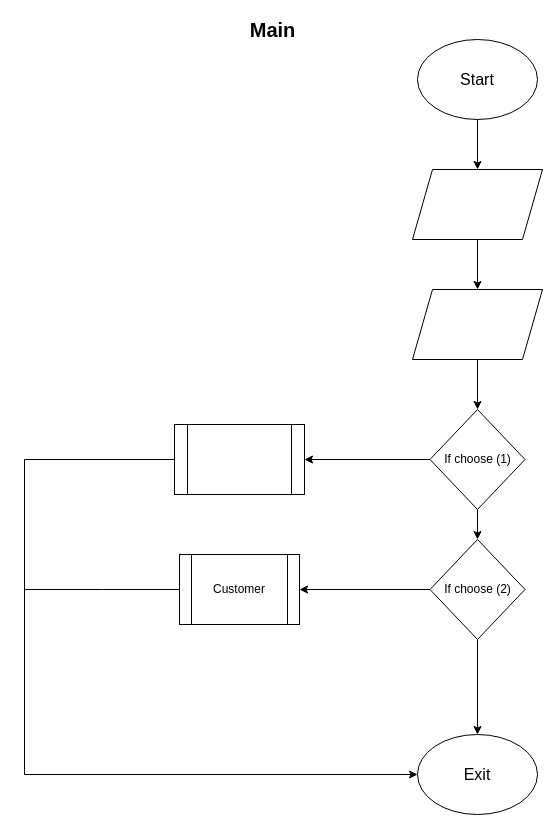
The diagram is 560 pixels wide and 832 high, and some of its shapes have lost their labels. The centre of each missing label's shape, as x and y in pixels:
"1) Admin 2) Customer" goes at [477,324].
"Admin" goes at [239,459].
"Display Login Page" goes at [477,204].
